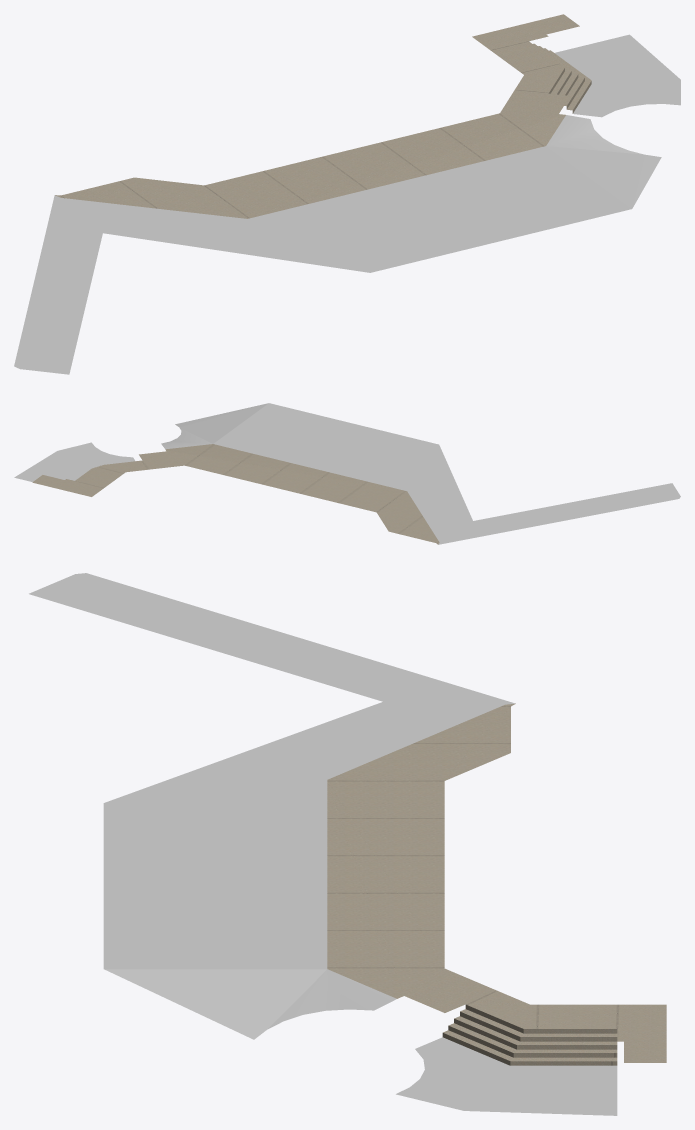
The model's file is env_cscConcrete.FBX.
The picture shows the model from 3 angles, top to bottom: view 1: azimuth 30°, elevation 25°; view 2: azimuth 150°, elevation 25°; view 3: azimuth 270°, elevation 25°; orthographic projection. The views are drawn at different scales.
Visible parts, largest first — view 1: env_cscConcrete; view 2: env_cscConcrete; view 3: env_cscConcrete.
Part boxes in pixels (x1,y1,x2,y2): env_cscConcrete: [14, 14, 680, 374]; env_cscConcrete: [14, 403, 680, 544]; env_cscConcrete: [29, 573, 666, 1115].
Bounding box in the file's own units: 42.91 × 0.8887 × 22.28.
